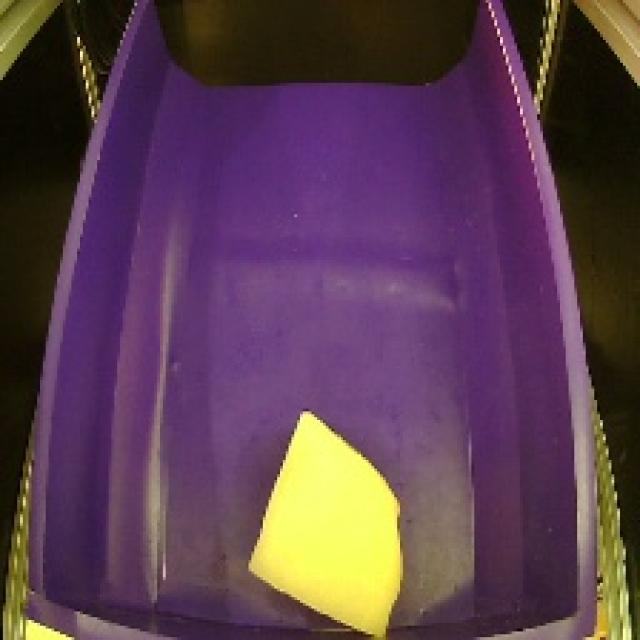potato: (236, 400, 422, 640)
